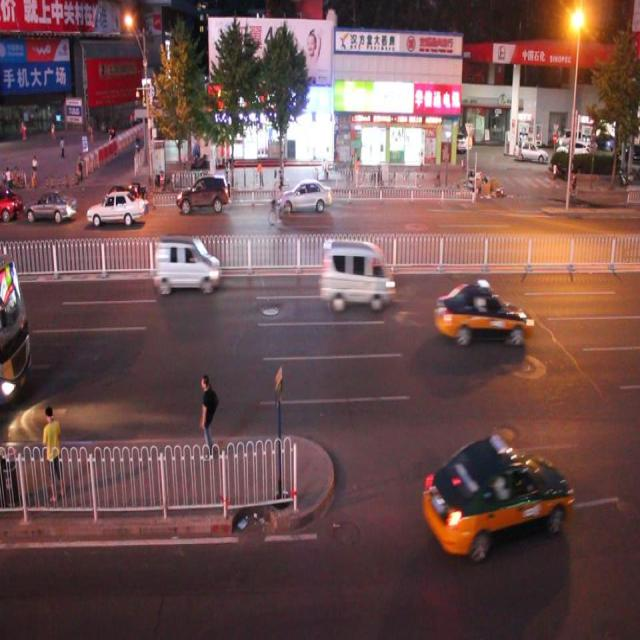car: (422, 434, 570, 557), (434, 278, 533, 348), (318, 237, 395, 314), (154, 238, 222, 294), (177, 171, 230, 215), (277, 174, 331, 217), (23, 187, 78, 228), (86, 190, 146, 226), (101, 180, 145, 223)
